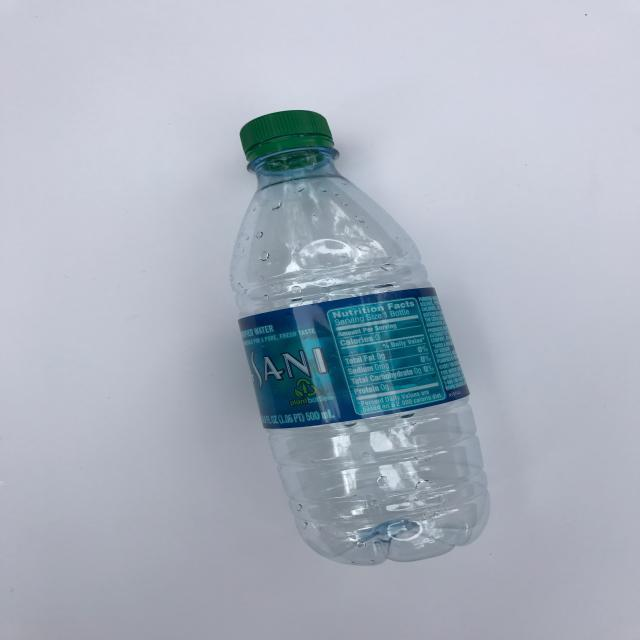plastic: (203, 99, 522, 578)
